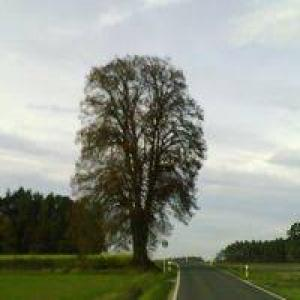Tree: (69, 50, 203, 265)
